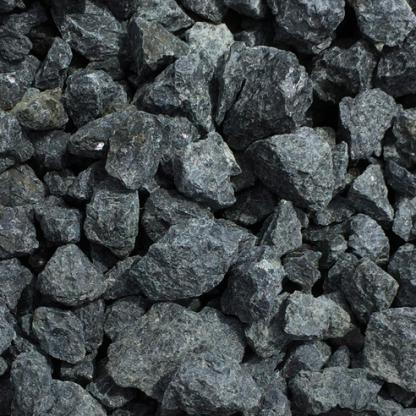Igneous_Granite: (83, 294, 259, 414), (120, 204, 241, 313), (219, 37, 316, 150), (151, 356, 279, 415), (263, 119, 338, 218), (171, 106, 240, 206), (290, 357, 381, 415), (30, 243, 100, 313), (334, 86, 397, 162), (276, 283, 354, 342), (336, 252, 396, 325)
